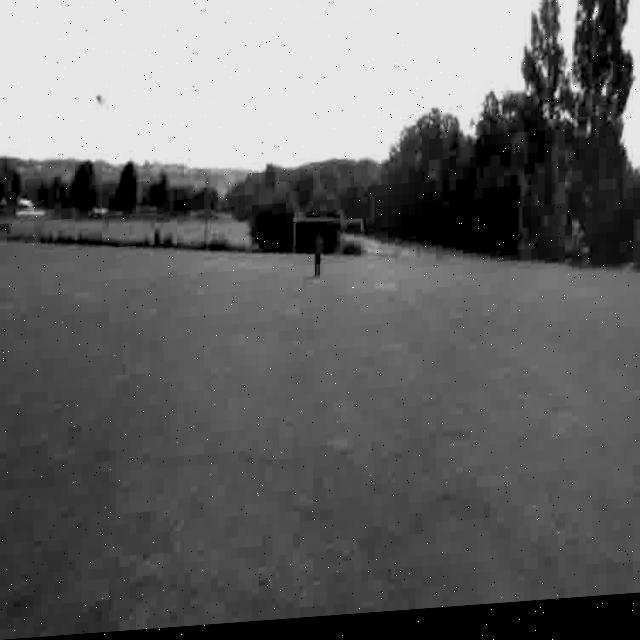drone: (0, 100, 640, 640)
